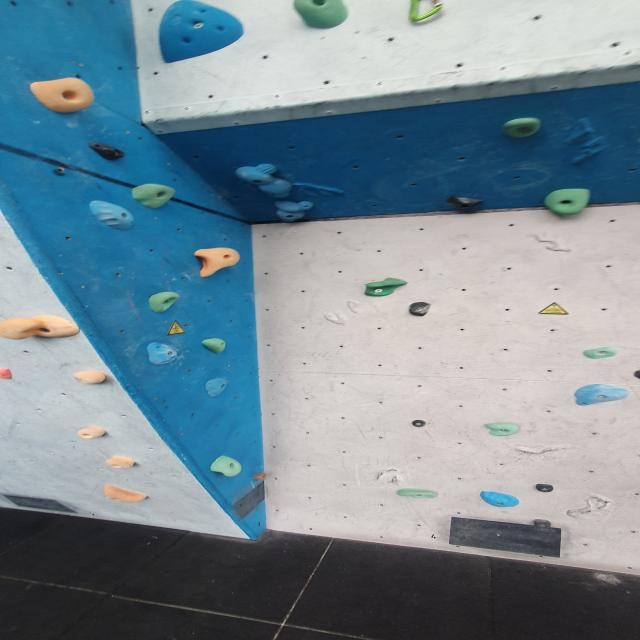Crimp: (154, 1, 250, 63), (572, 384, 630, 405), (101, 482, 152, 504), (85, 140, 130, 164), (477, 491, 522, 509), (71, 369, 107, 388), (482, 422, 524, 438), (585, 348, 617, 359), (0, 366, 14, 381)
Jug: (28, 76, 96, 117), (0, 314, 80, 342), (289, 0, 351, 29), (191, 245, 243, 279), (542, 188, 594, 220), (131, 182, 179, 213), (500, 116, 544, 143), (203, 453, 245, 478), (362, 277, 410, 298), (393, 487, 441, 502), (148, 291, 178, 315), (200, 337, 229, 356)
Pinch: (236, 162, 297, 198), (272, 199, 316, 223), (103, 454, 137, 472), (74, 424, 108, 441), (449, 196, 484, 210), (532, 482, 564, 495), (531, 518, 553, 530), (410, 418, 428, 429)
Pocket: (406, 302, 436, 319)
Sloper: (88, 200, 142, 232), (141, 342, 184, 367), (200, 376, 232, 401)
